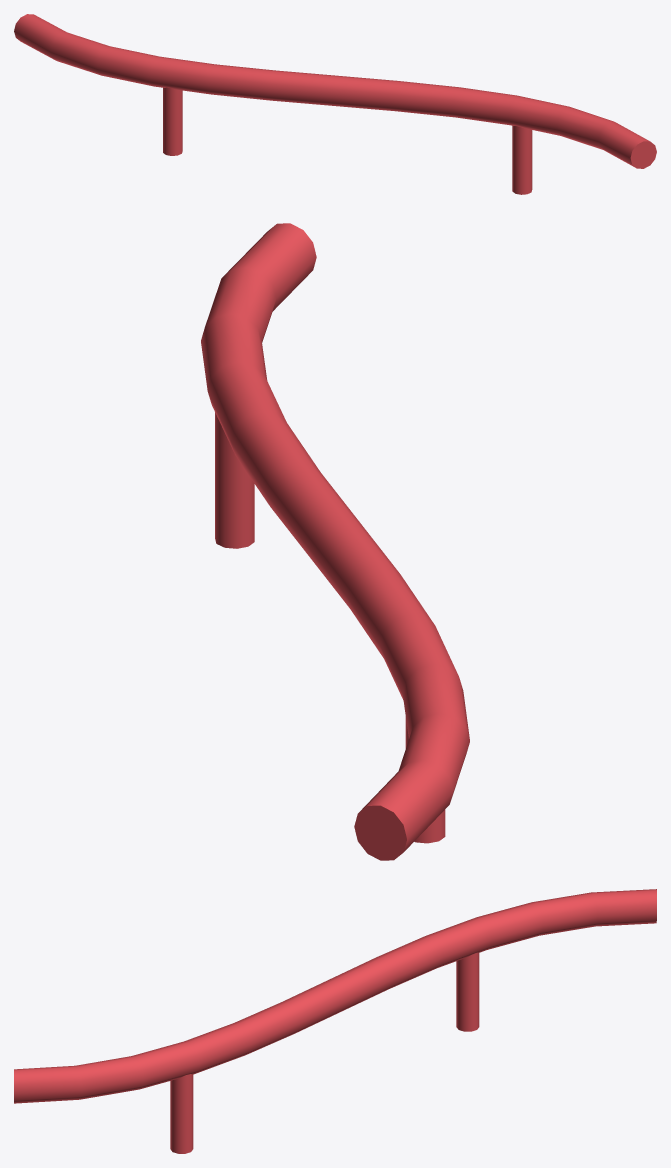
Rendered from rail_right_left.glb.
3 renders of one model, top to bottom at view 1: azimuth 30°, elevation 25°; view 2: azimuth 150°, elevation 25°; view 3: azimuth 270°, elevation 25°, orthographic. The views are drawn at different scales.
Parts seen in each view (by area): view 1: Cylinder.029; view 2: Cylinder.029; view 3: Cylinder.029.
Boxes of the visible parts, <box> form: Cylinder.029: <box>14,14,656,194</box>; Cylinder.029: <box>201,223,469,860</box>; Cylinder.029: <box>14,889,656,1153</box>.
Size of the model in its own units: 10.8 by 2.68 by 14.96.
